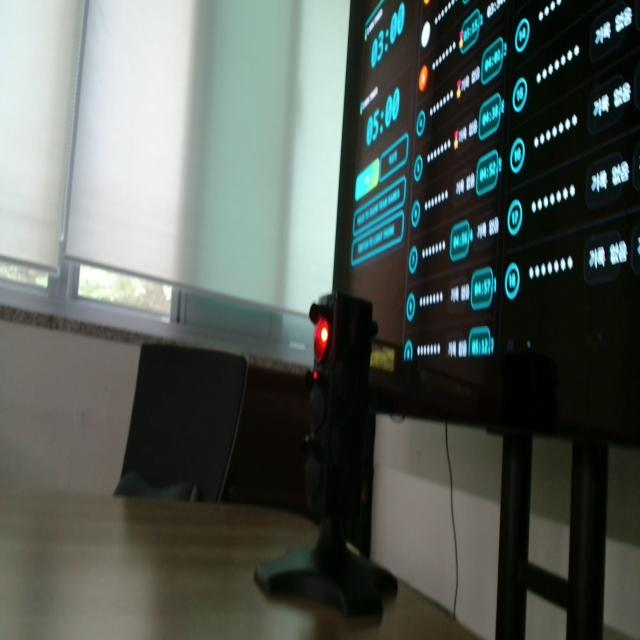red_light: (314, 318, 329, 361)
